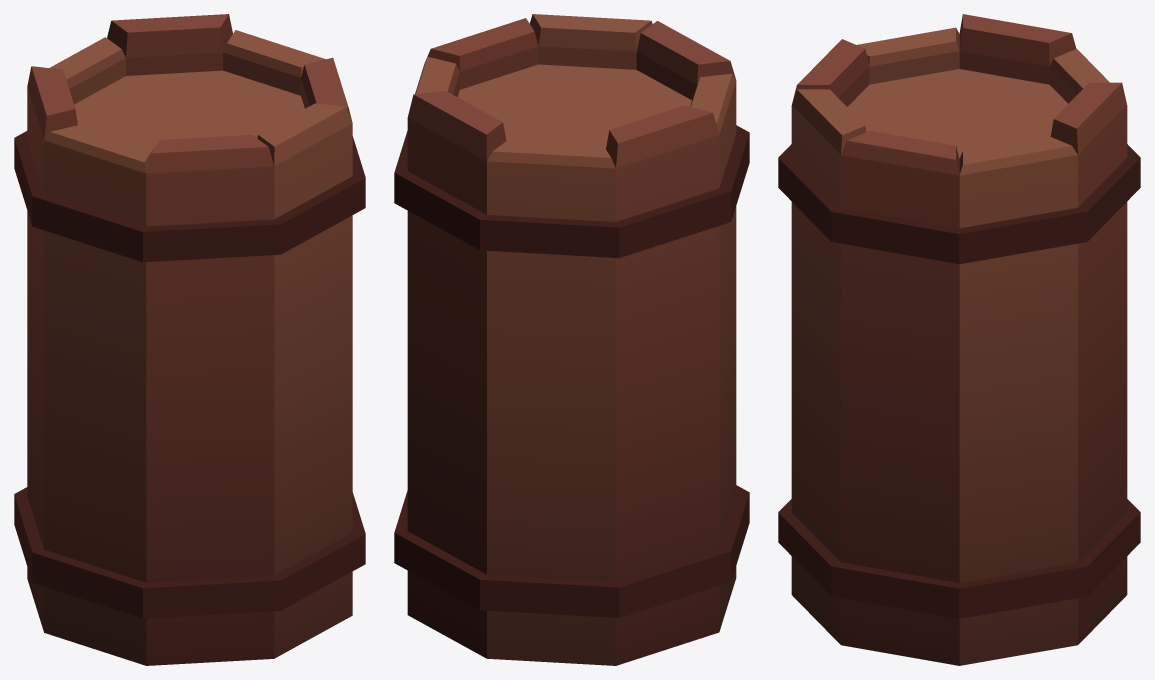
The model's file is farmpack2023churnclosed.fbx.
3 renders of one model, left to right at view 1: azimuth 30°, elevation 25°; view 2: azimuth 150°, elevation 25°; view 3: azimuth 270°, elevation 25°, orthographic.
Parts seen in each view (by area): view 1: Circle.001; view 2: Circle.001; view 3: Circle.001.
Boxes of the visible parts, x1,y1,x2,y2 form: Circle.001: [14, 14, 365, 665]; Circle.001: [394, 14, 749, 665]; Circle.001: [778, 14, 1140, 665].
Bounding box in the file's own units: 0.9203 × 0.9203 × 1.44.
